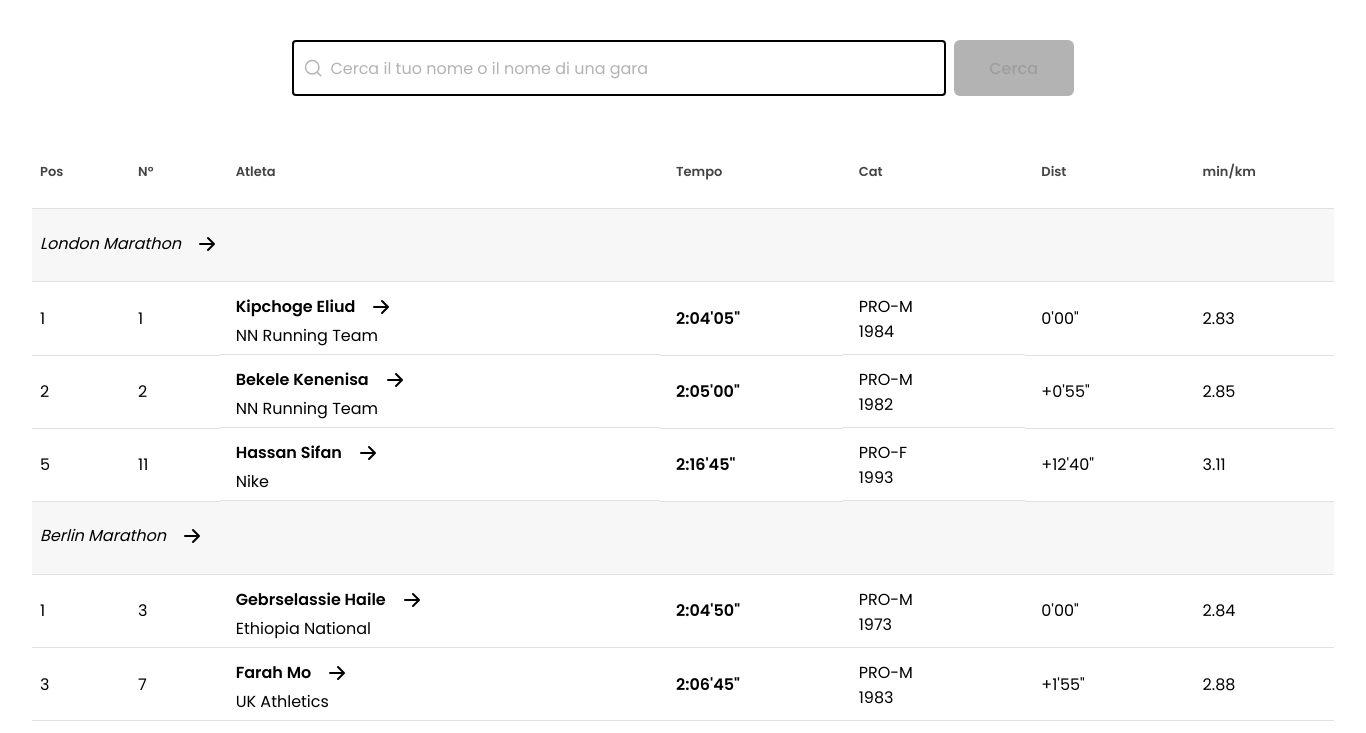
App › shows the retry button style when the last request failed
Type "kip" into the search field with placeholder "Cerca il tuo nome o il nome di una gara" at (619, 68), box [292, 40, 946, 96]
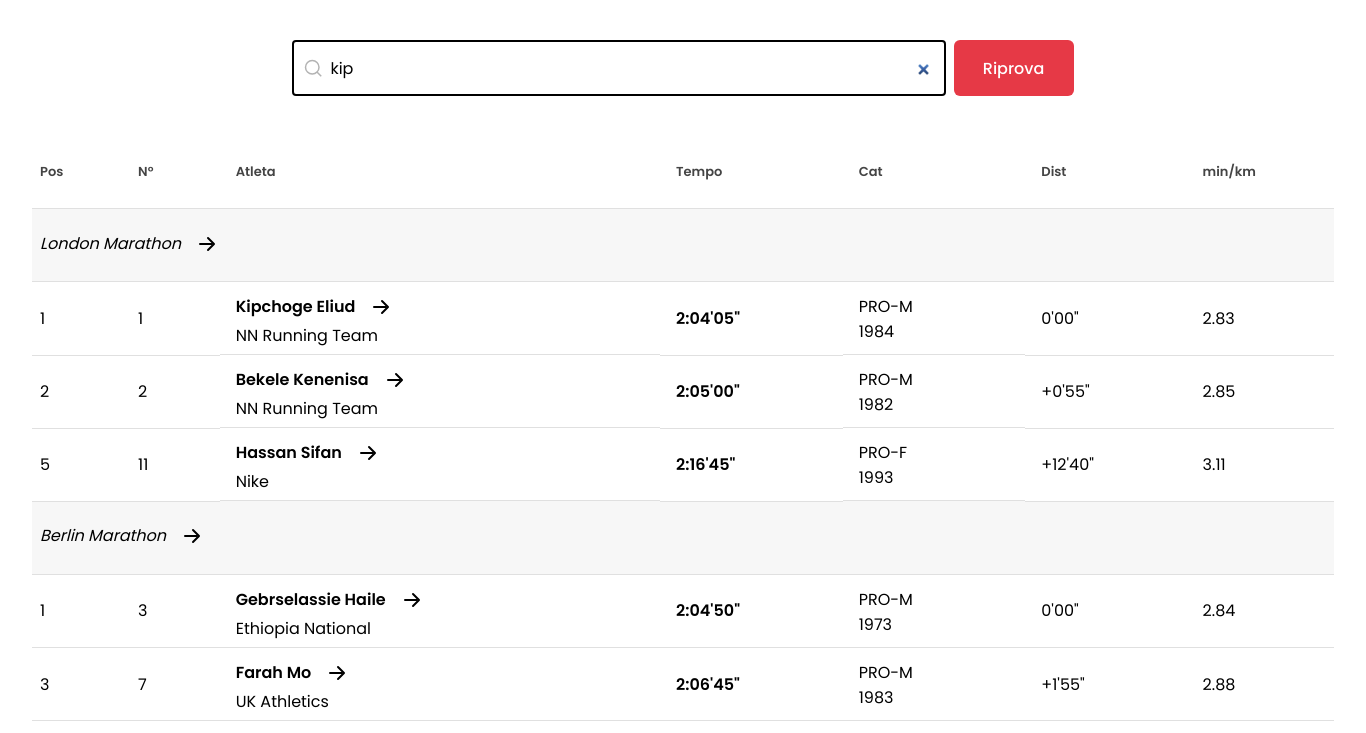
Result: the button "Riprova" is enabled at [954, 40, 1074, 96]
